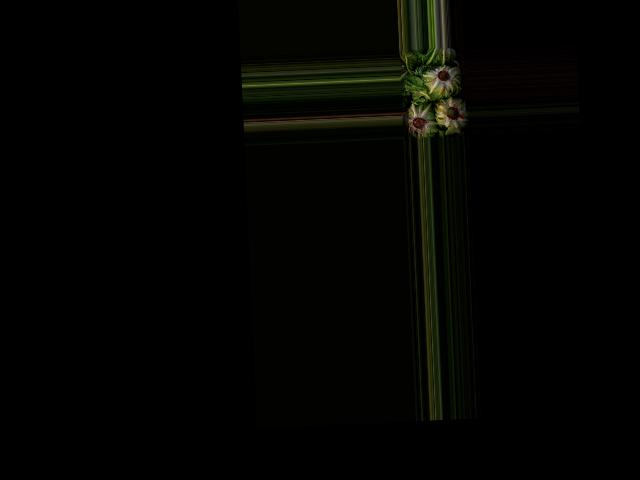lettuce: (406, 102, 438, 138)
